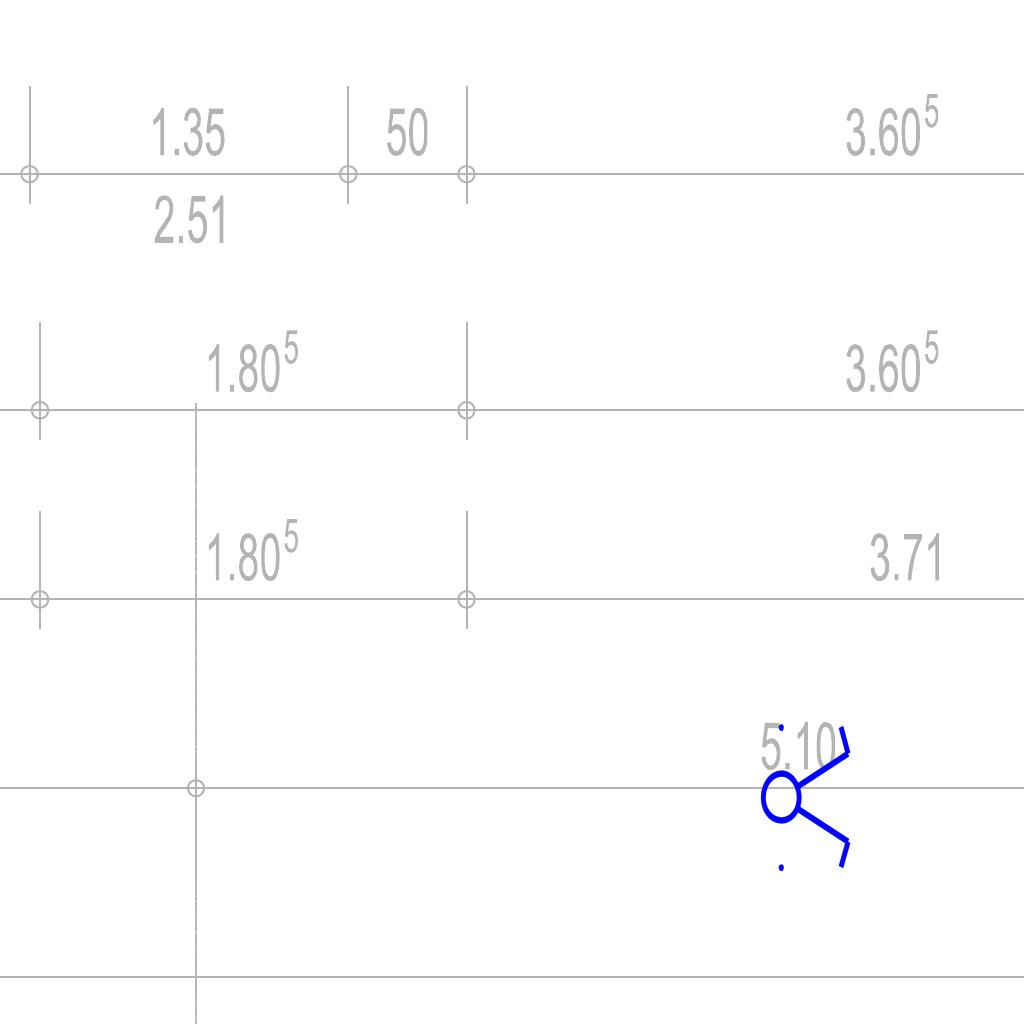Serienschalter: (759, 712, 855, 880)
